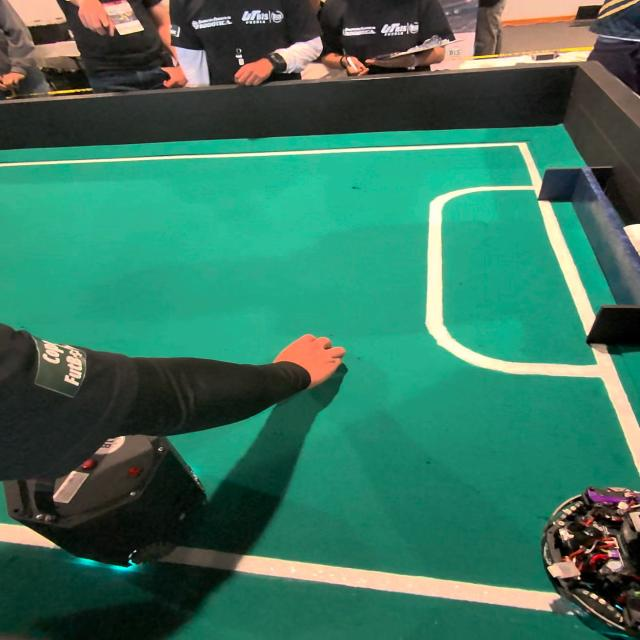Robot: (15, 419, 213, 577), (541, 468, 640, 640)
